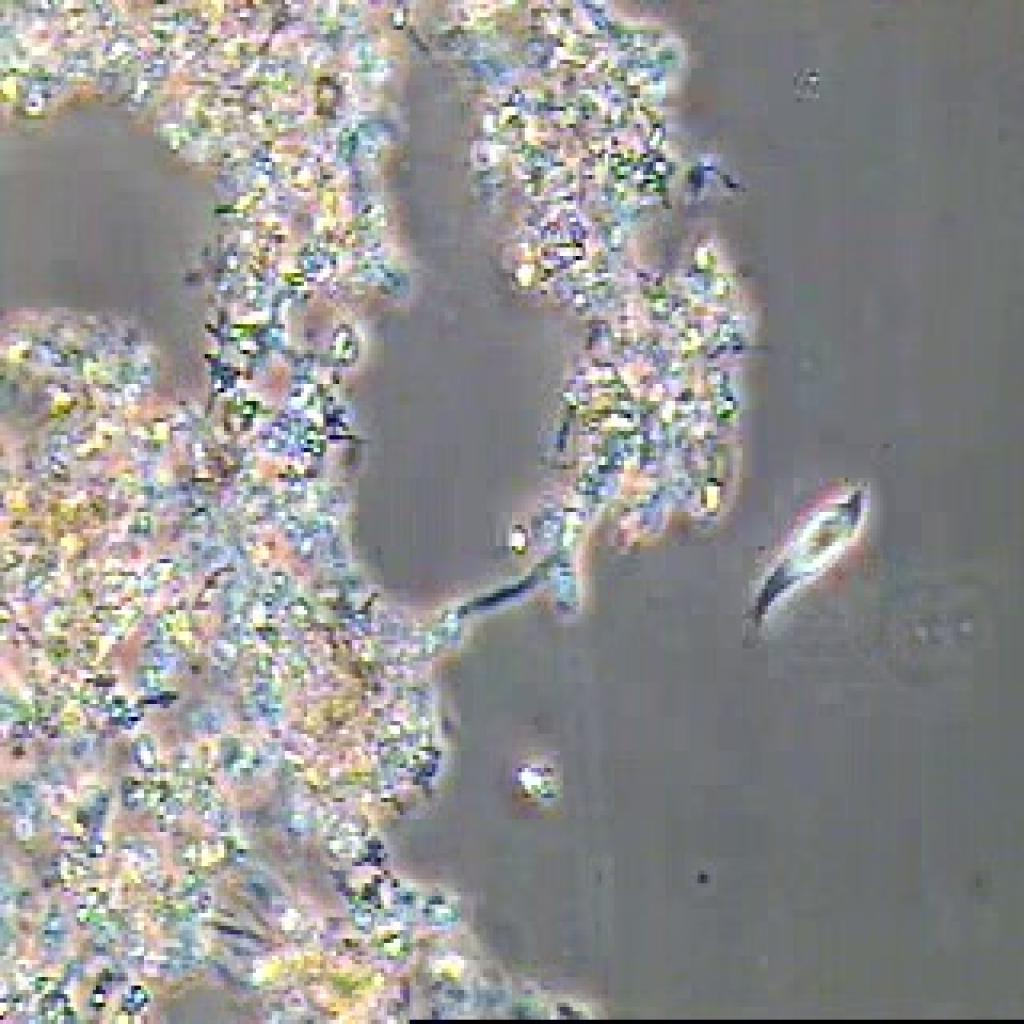Pristina: (739, 463, 867, 646)
